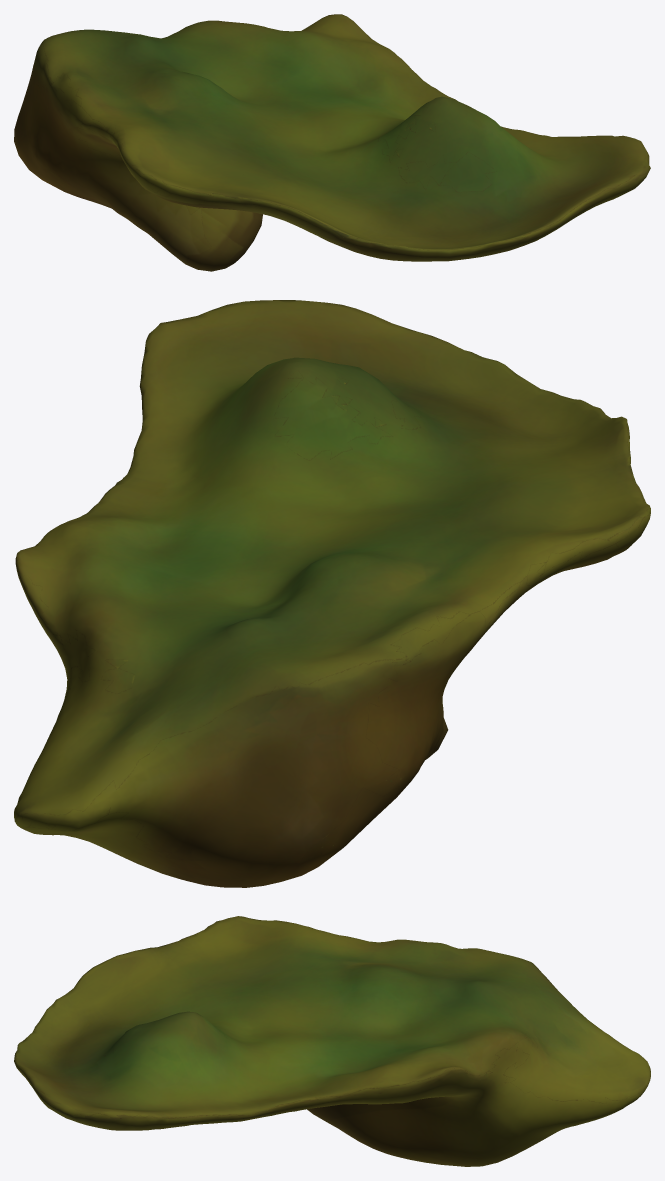
Rendered from bigIsland1.fbx.
The picture shows the model from 3 angles, top to bottom: view 1: azimuth 30°, elevation 25°; view 2: azimuth 150°, elevation 25°; view 3: azimuth 270°, elevation 25°; orthographic projection. The views are drawn at different scales.
Visible parts, largest first — view 1: BigIsland1; view 2: BigIsland1; view 3: BigIsland1.
Part boxes in pixels (x1,y1,x2,y2): BigIsland1: [14, 14, 650, 271]; BigIsland1: [14, 300, 650, 887]; BigIsland1: [14, 916, 650, 1166].
Size of the model in its own units: 33847 by 16518 by 50540.
